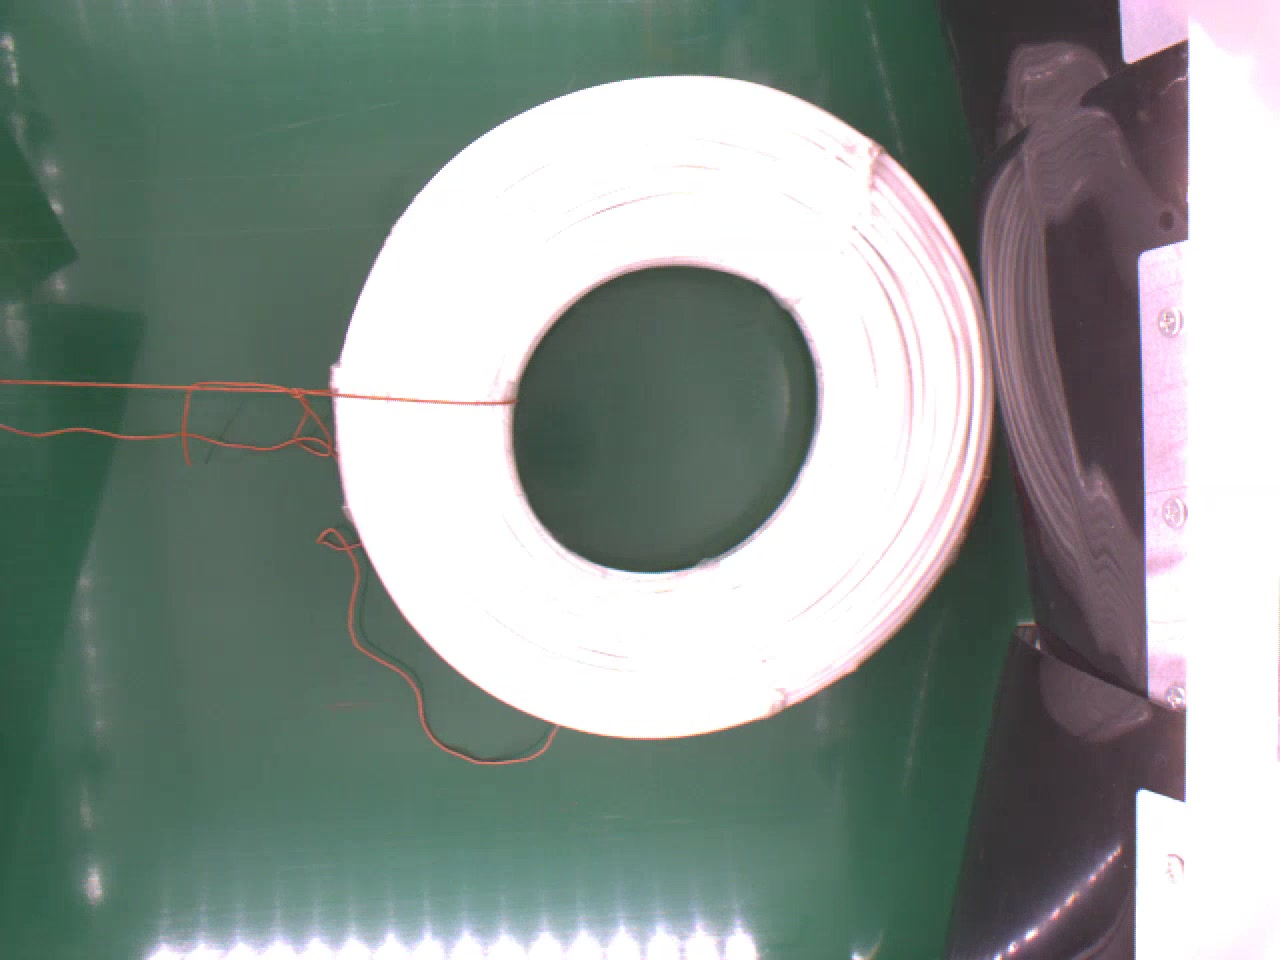white: (329, 69, 997, 738)
